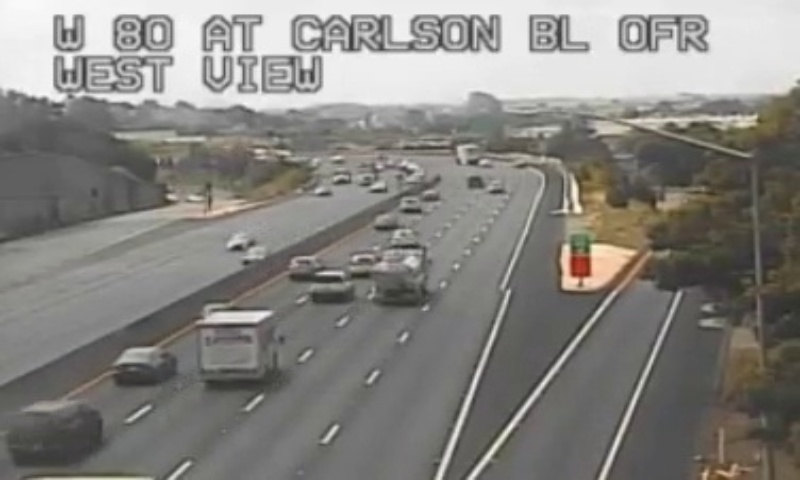car: (6, 402, 100, 460), (112, 347, 174, 381), (310, 271, 353, 298), (347, 252, 377, 276), (287, 256, 321, 277)
small-truck: (196, 309, 275, 383)
tank-truck: (372, 249, 427, 301)
